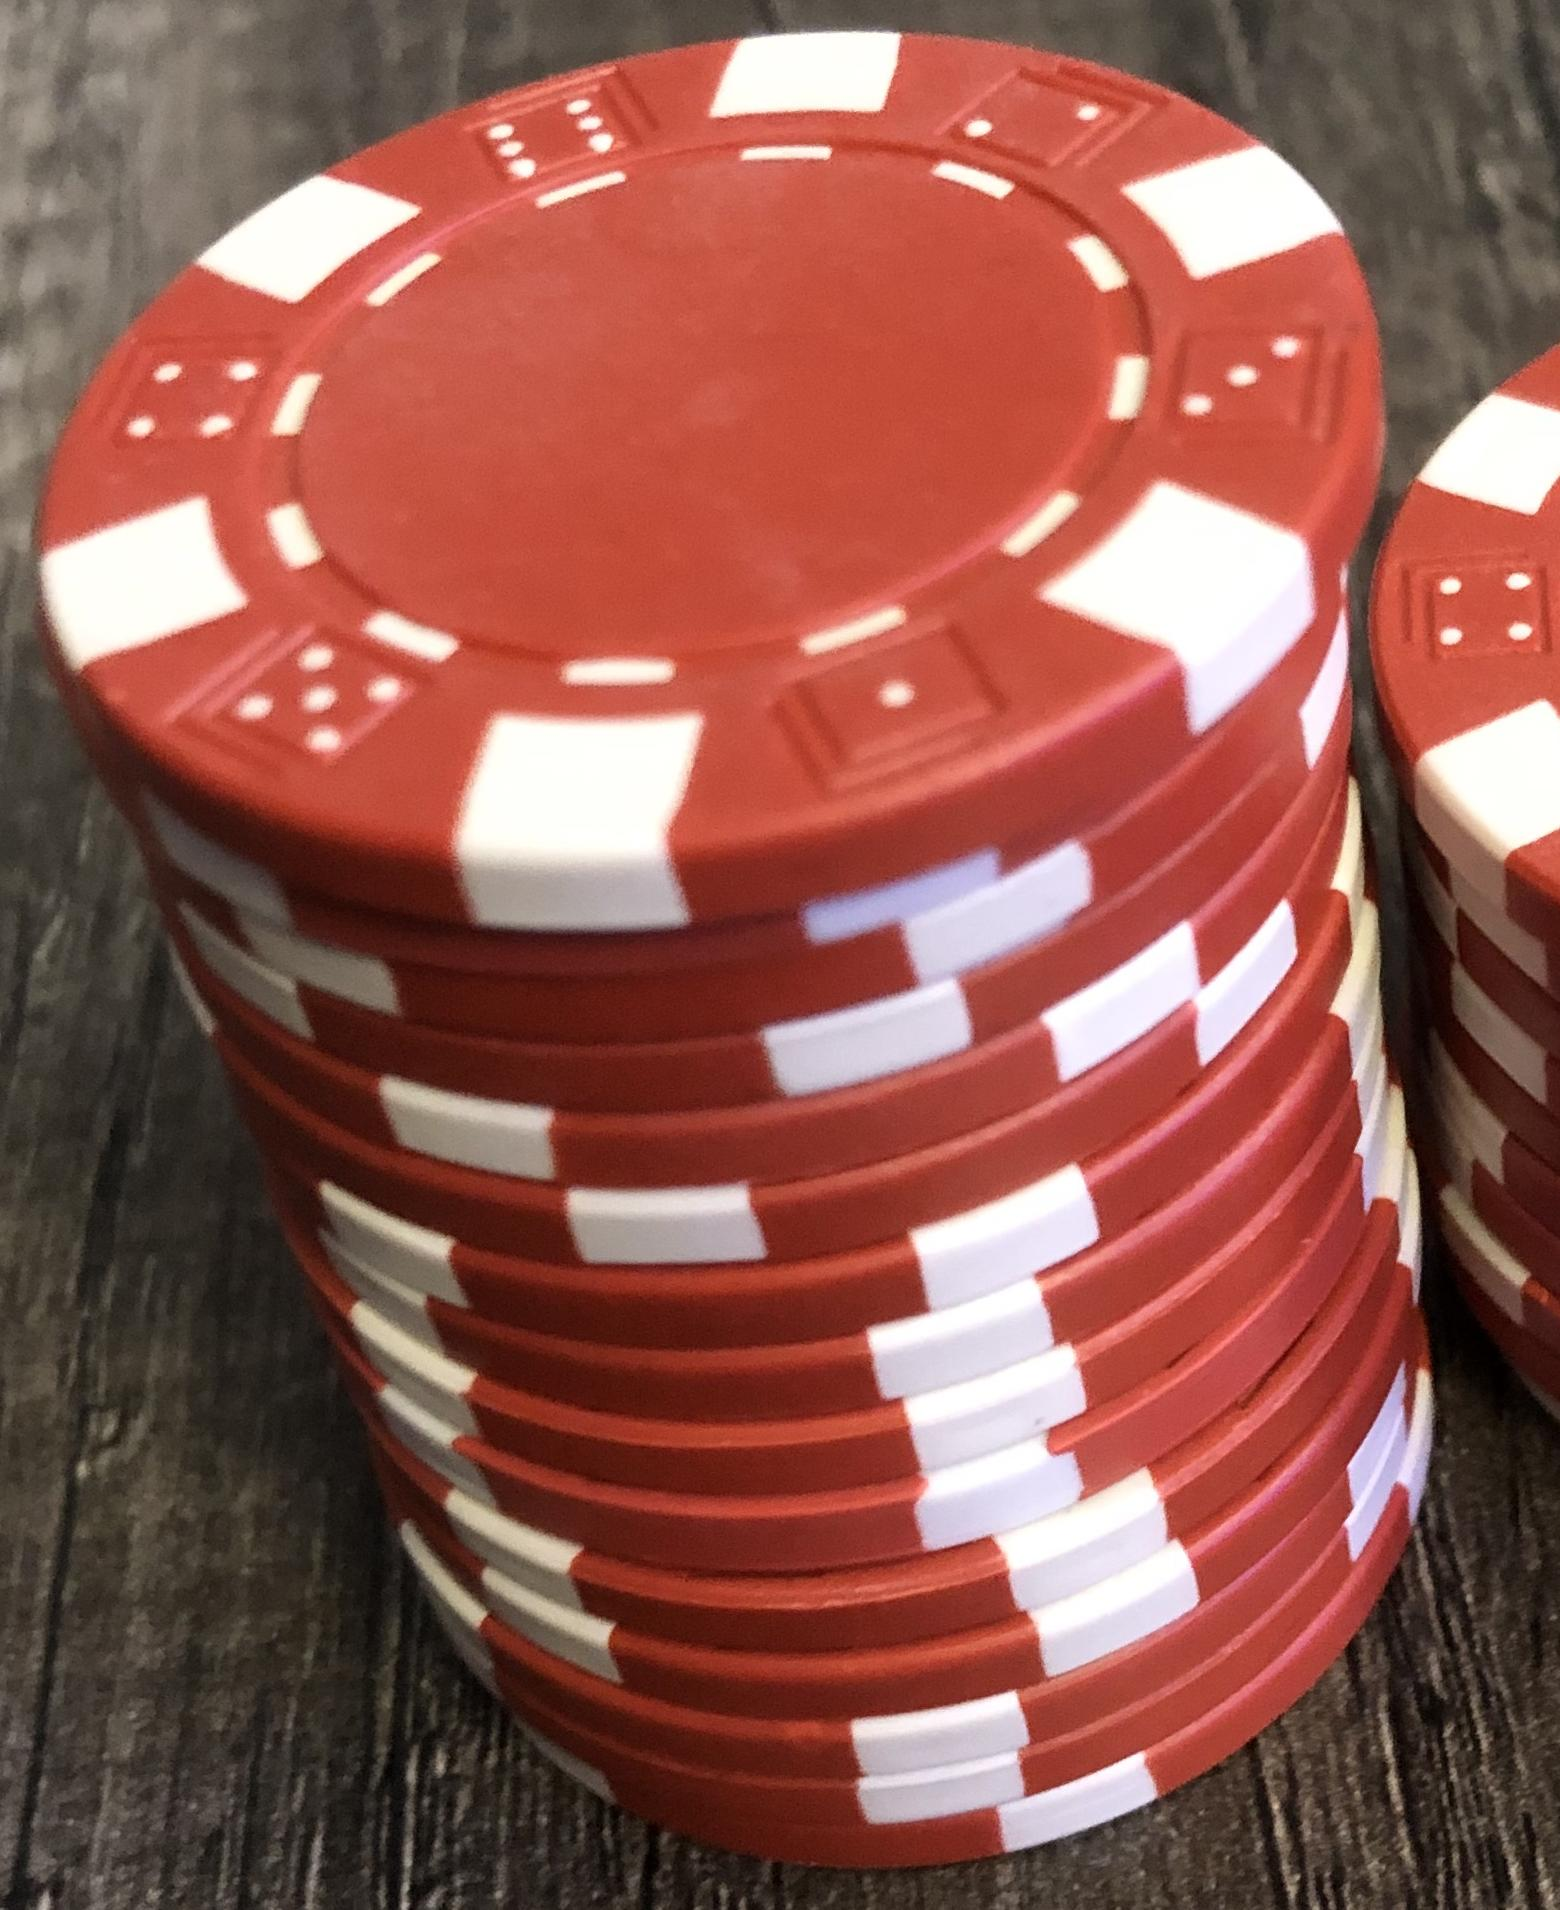Chip: (2, 2, 1560, 1910)
